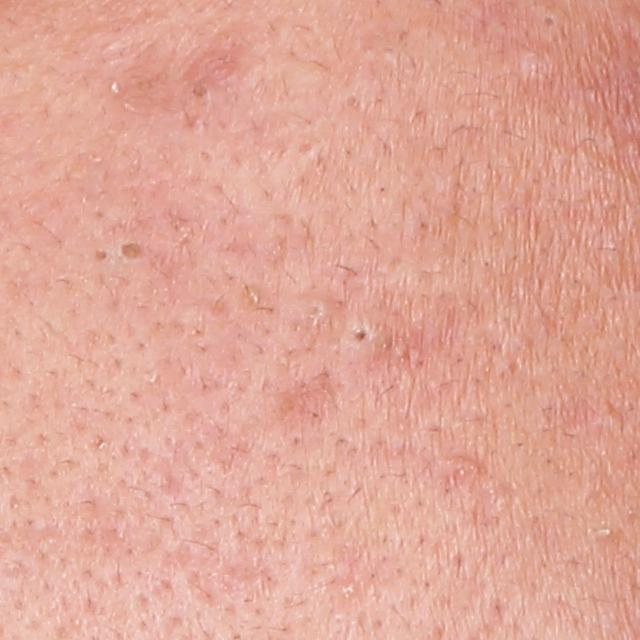comedo: (182, 77, 218, 111), (303, 295, 334, 323), (118, 241, 148, 264), (518, 46, 541, 76), (591, 520, 617, 546), (536, 11, 565, 33), (350, 326, 375, 351), (93, 245, 113, 267), (105, 79, 123, 98)
